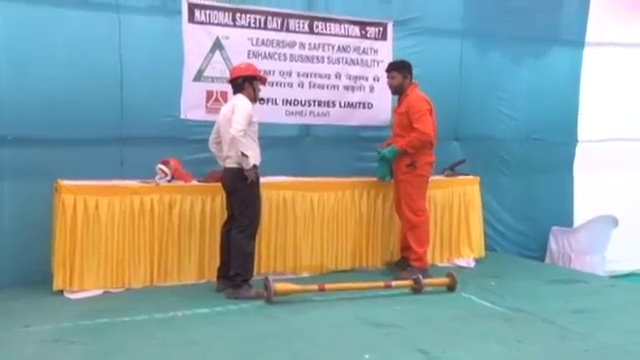helmet: (225, 61, 270, 88)
helmet_off: (385, 58, 413, 95)
helmet_on: (225, 62, 270, 107)
person: (204, 59, 267, 296), (386, 56, 433, 279)
